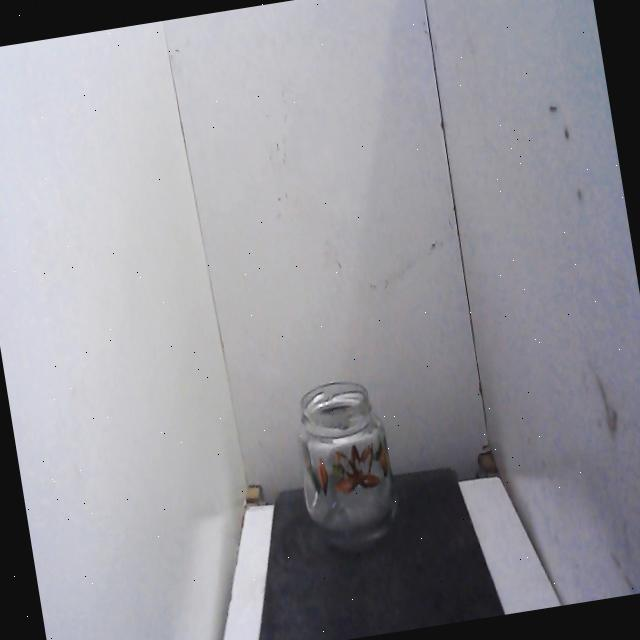vidro: (278, 368, 414, 572)
